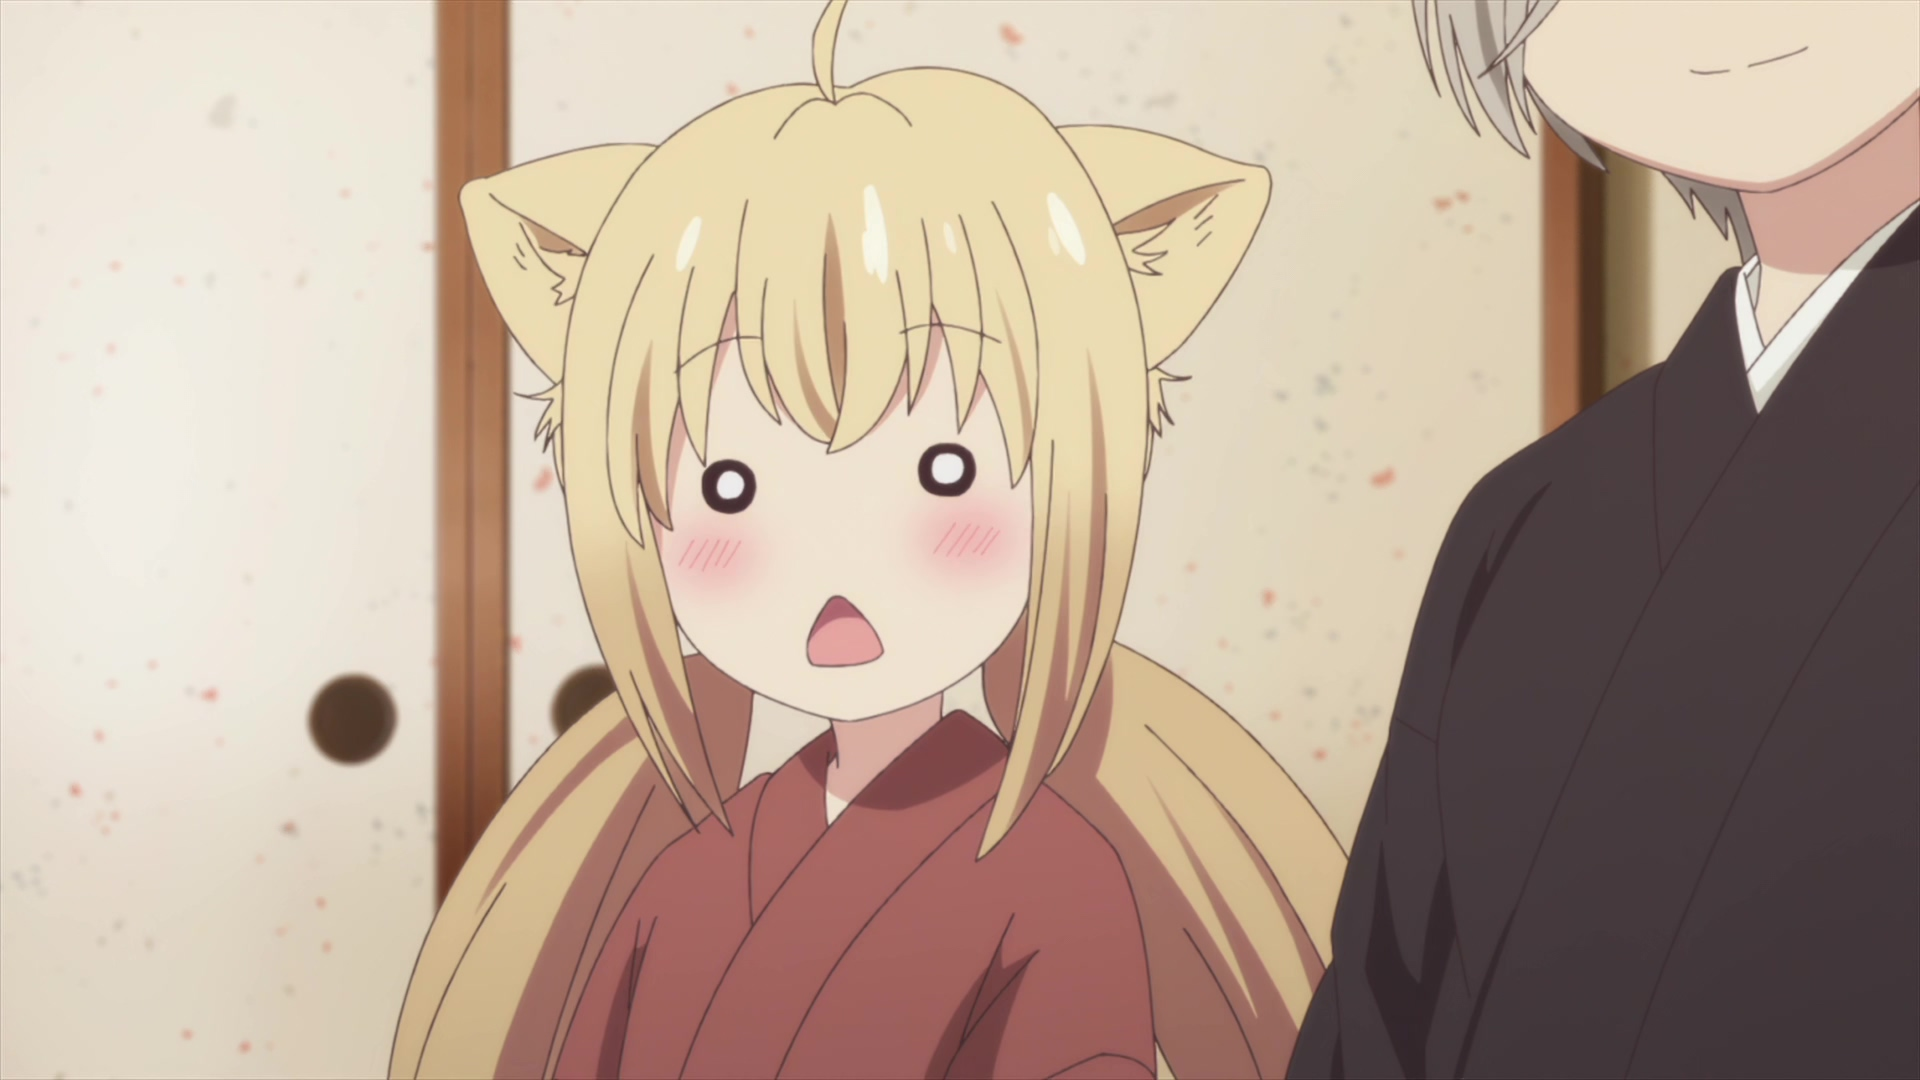八百比丘尼: (1284, 1, 1920, 1080)
柚: (388, 1, 1352, 1080)
